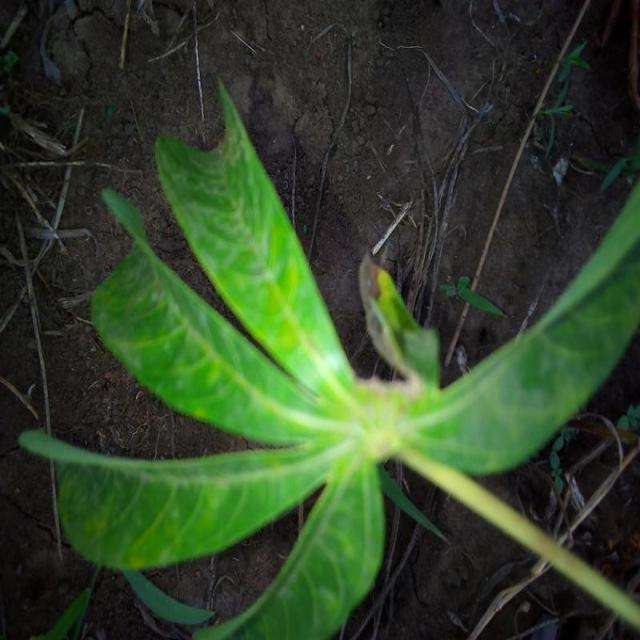cassava leaf: (17, 74, 638, 636)
